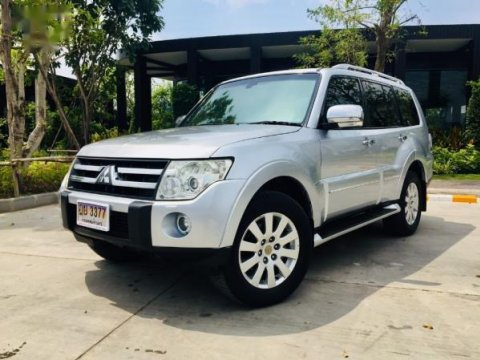pickup: (57, 62, 436, 310)
